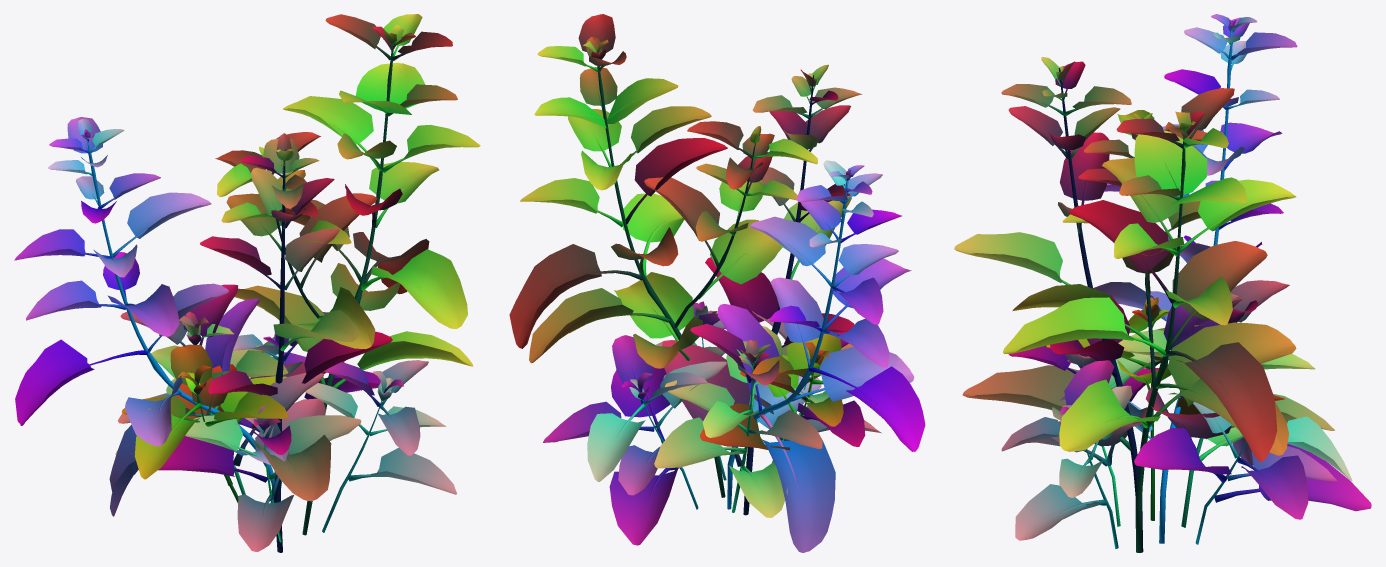
The model's file is Lemon_Balm_umslacdia_Mid_umslacdia_VarA_LOD0.fbx.
3 renders of one model, left to right at view 1: azimuth 30°, elevation 25°; view 2: azimuth 150°, elevation 25°; view 3: azimuth 270°, elevation 25°, orthographic. The views are drawn at different scales.
Visible parts, largest first — view 1: _m7xy_VarA_LOD1; view 2: _m7xy_VarA_LOD1; view 3: _m7xy_VarA_LOD1.
Boxes of the visible parts, box(x1,y1,x2,y2) form: _m7xy_VarA_LOD1: box(14, 14, 480, 552); _m7xy_VarA_LOD1: box(509, 14, 925, 552); _m7xy_VarA_LOD1: box(954, 14, 1371, 552).
Bounding box in the file's own units: 68.76 × 76.08 × 56.24.
